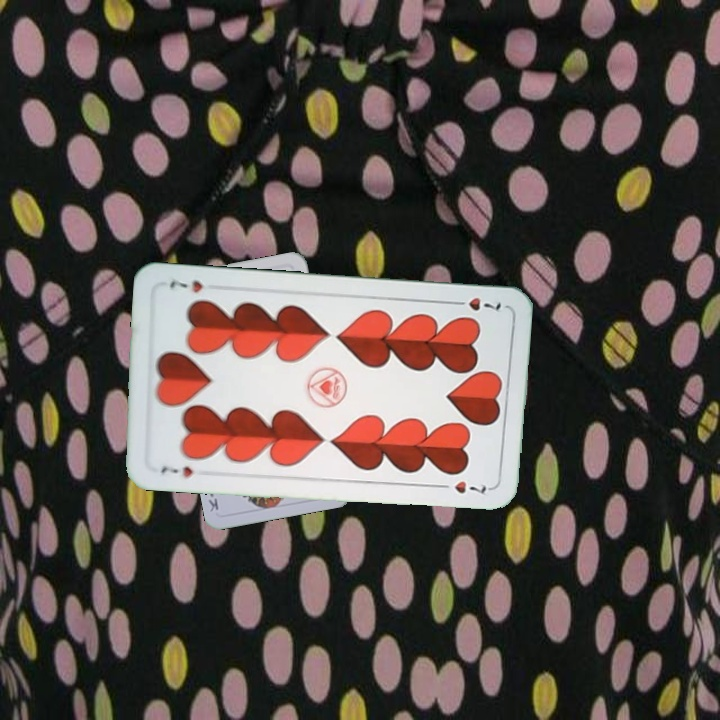H7: (447, 293, 504, 315), (156, 462, 195, 480)
